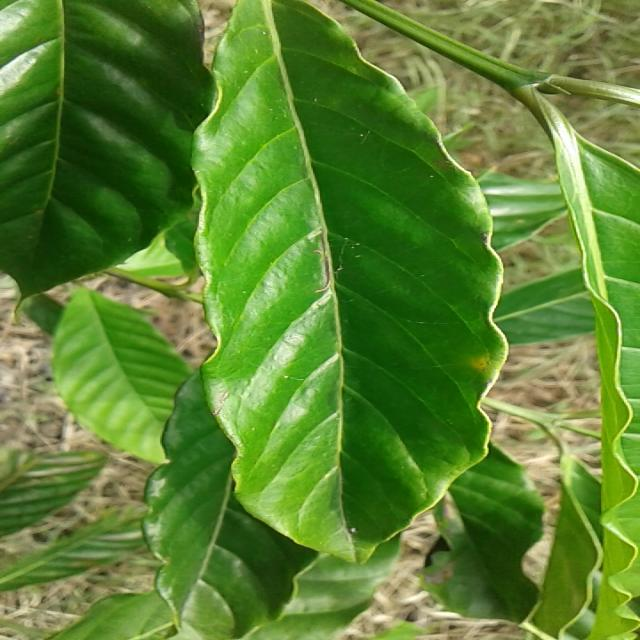Enfermedad-Roya: (192, 0, 509, 566)
